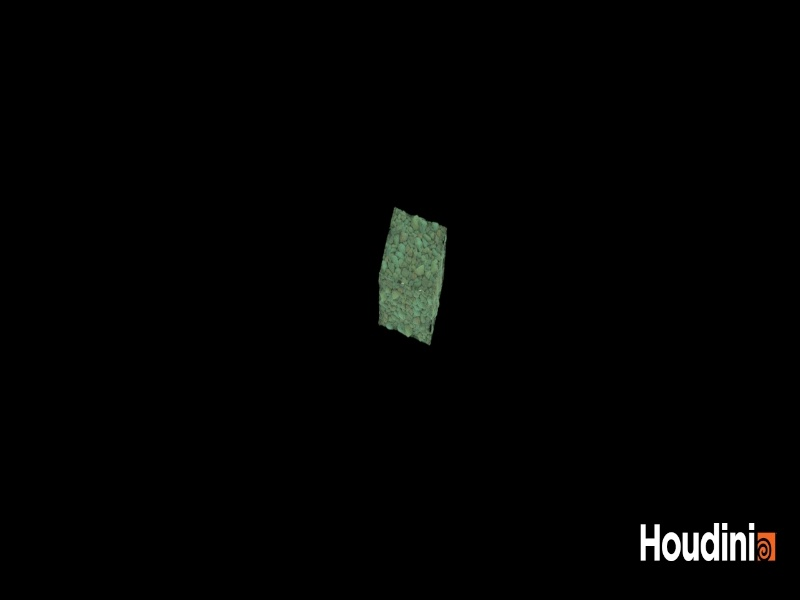waste: (365, 194, 459, 354)
